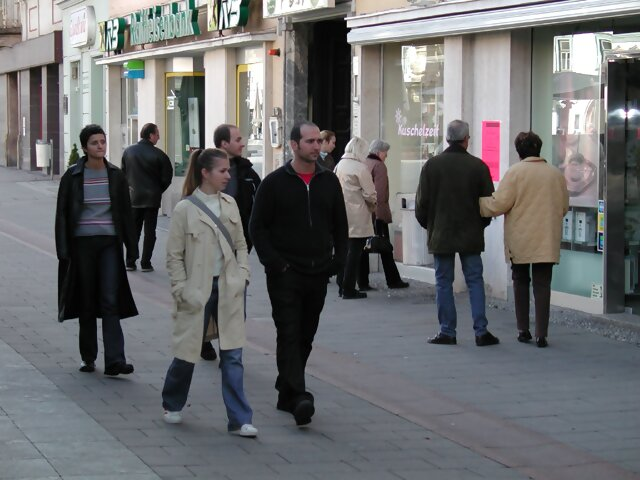person: (252, 117, 350, 421), (166, 146, 264, 441), (54, 125, 141, 384), (409, 117, 501, 356), (497, 128, 578, 350), (119, 123, 169, 277)
